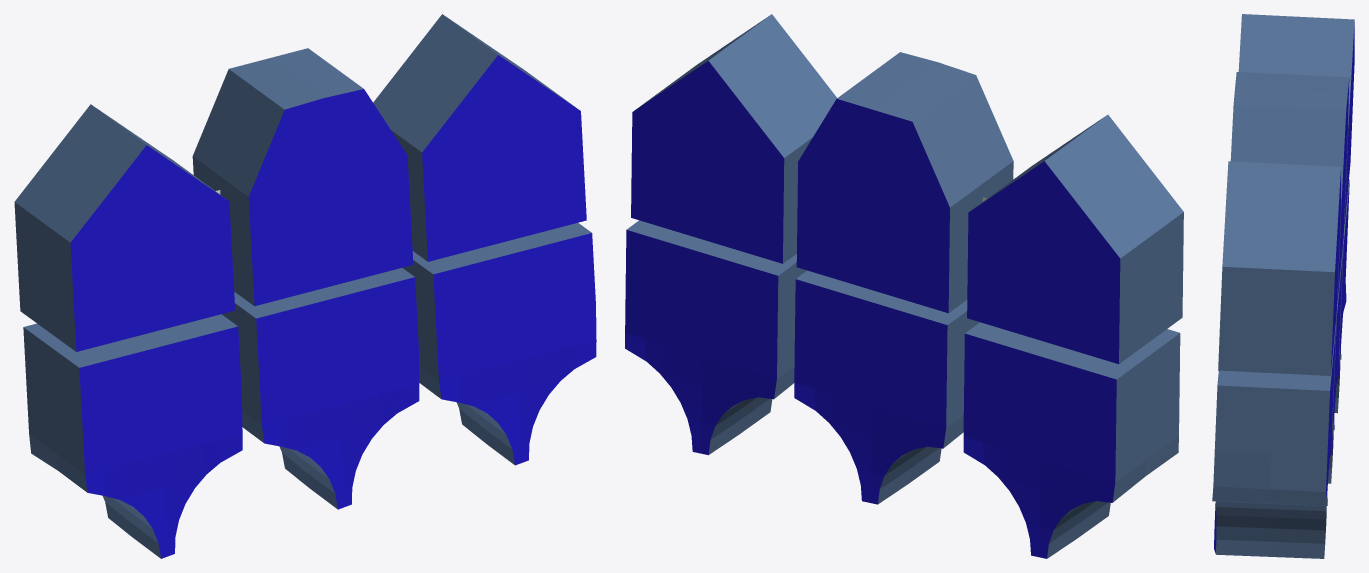
The model's file is asset.gltf.
3 renders of one model, left to right at view 1: azimuth 30°, elevation 25°; view 2: azimuth 150°, elevation 25°; view 3: azimuth 270°, elevation 25°, orthographic. The views are drawn at different scales.
Visible parts, largest first — view 1: Cube; view 2: Cube; view 3: Cube.
Boxes of the visible parts, x1=… form: Cube: x1=14, y1=14, x2=596, y2=558; Cube: x1=625, y1=14, x2=1183, y2=558; Cube: x1=1212, y1=14, x2=1354, y2=558.
Size of the model in its own units: 9.93 by 7.79 by 2.53.
